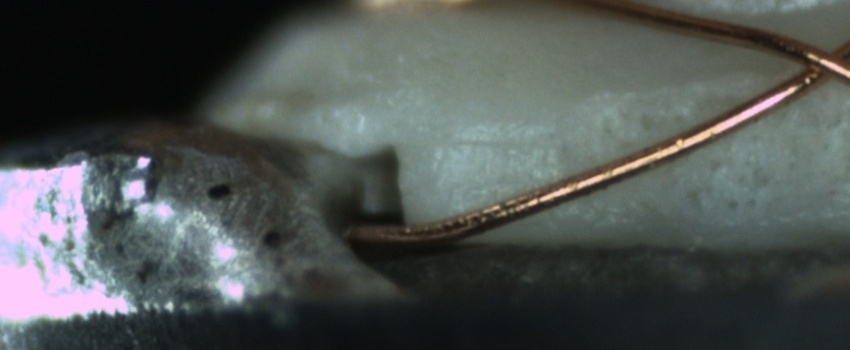CL: (776, 33, 849, 94)
DL: (447, 111, 561, 171)
